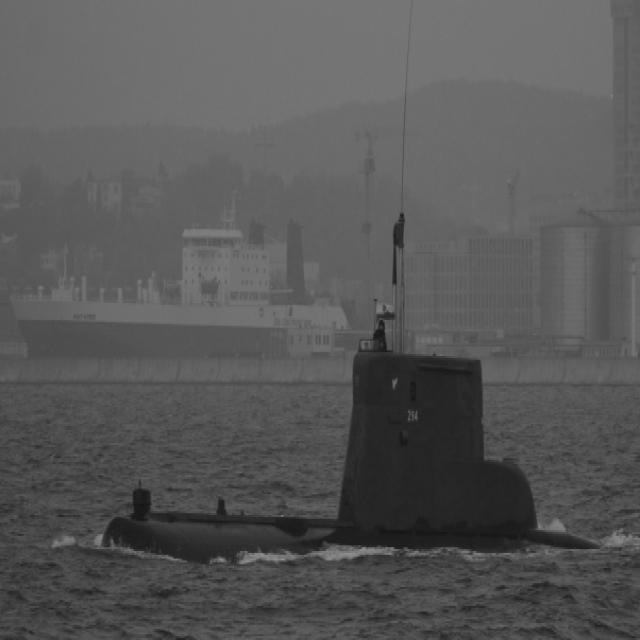submarine: (94, 361, 640, 571)
